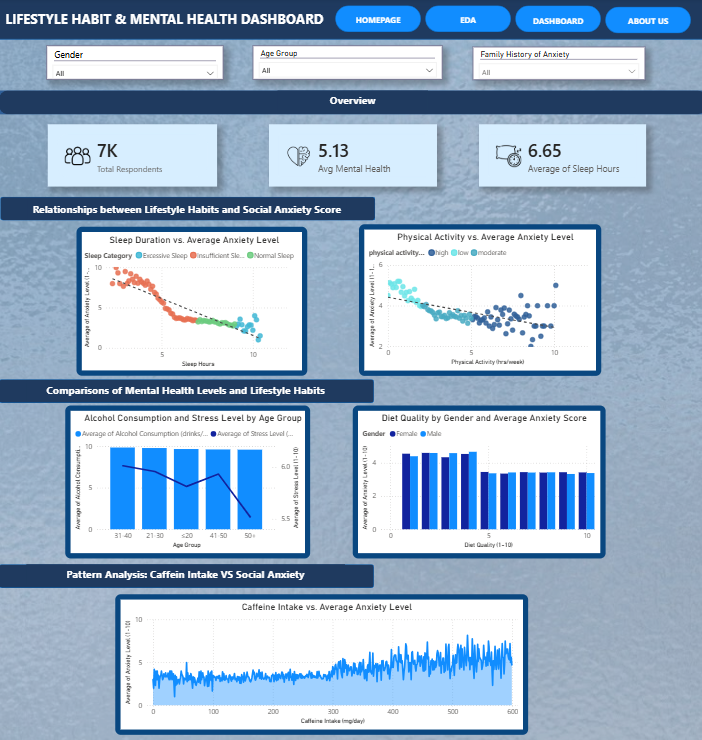

What the dashboard file says about the page in this screenshot:
{"tool":"powerbi","page":{"name":"dashb","canvas":[1280,1350],"ordinal":2},"visuals":[{"type":"image","box":[0,0,1280,1350],"z":0},{"type":"shape","title":"DASHBOARD","box":[933.6,13.3,155,48.3],"z":0,"group":"g1"},{"type":"group","id":"g1","title":"Group 5","box":[933.6,13.3,155,48.3],"z":0,"group":"g9"},{"type":"shape","box":[0,689,678.6,42.9],"z":0,"group":"g12"},{"type":"group","id":"g2","title":"Group 6","box":[771.5,13.3,155,48.3],"z":1000,"group":"g9"},{"type":"shape","title":"DASHBOARD","box":[771.5,13.3,155,48],"z":1000,"group":"g2"},{"type":"shape","title":"P","box":[0,167.1,1280,42.9],"z":1000},{"type":"textbox","box":[50,691.9,575.7,35.7],"z":1000,"group":"g12"},{"type":"shape","box":[0,0,1280,75],"z":2000},{"type":"group","id":"g3","title":"Group 7","box":[608.3,13.3,155,48.3],"z":2000,"group":"g9"},{"type":"shape","title":"DASHBOARD","box":[608.3,13.3,155,48],"z":3000,"group":"g3"},{"type":"group","id":"g4","title":"Group 8","box":[1096.9,15,155,48],"z":3000,"group":"g9"},{"type":"textbox","box":[0,16.7,1223.3,51.7],"z":3000},{"type":"textbox","box":[956.5,26.8,110,30],"z":3000,"group":"g1"},{"type":"textbox","box":[504.3,167.1,271.4,35.7],"z":4000},{"type":"shape","title":"DASHBOARD","box":[1096.9,15,155,48],"z":5000,"group":"g4"},{"type":"slicer","fields":{"Values":["anxietyTable.Gender"]},"box":[86.7,86.7,320,61.7],"z":5000},{"type":"cardVisual","title":"Total Respondents","fields":{"Data":["anxietyTable.Total Respondents"]},"box":[87.5,228.3,306.3,113.1],"z":5000,"group":"g11"},{"type":"slicer","fields":{"Values":["anxietyTable.Age Group"]},"box":[458.3,86.7,343.3,61.7],"z":6000},{"type":"cardVisual","fields":{"Data":["Avg(anxietyTable.Sleep Hours)"]},"box":[868.7,229.2,302.4,113.1],"z":6000,"group":"g11"},{"type":"textbox","box":[631.2,23.5,110,30],"z":7000,"group":"g3"},{"type":"slicer","fields":{"Values":["anxietyTable.Family History of Anxiety"]},"box":[858.3,88.3,311.7,60],"z":7000},{"type":"shape","box":[1.4,360,678.6,42.9],"z":8000,"group":"g10"},{"type":"stackedAreaChart","title":"Caffeine Intake vs. Average Anxiety Level","fields":{"Category":["anxietyTable.Caffeine Intake (mg/day)"],"Y":["Avg(anxietyTable.Anxiety Level (1-10))"]},"box":[210,1080,747.1,254.3],"z":8000},{"type":"textbox","box":[794.4,23.5,110,30],"z":9000,"group":"g2"},{"type":"textbox","box":[51.4,364.3,575.7,35.7],"z":9000,"group":"g10"},{"type":"group","id":"g5","title":"Group 1","box":[120,737.6,977.1,277.1],"z":9000},{"type":"group","id":"g6","title":"Group 2","box":[140,409.4,950,274.3],"z":10000},{"type":"textbox","box":[1119.8,25.2,110,30],"z":11000,"group":"g4"},{"type":"group","id":"g7","title":"Group 3","box":[0,689,678.6,42.9],"z":11000},{"type":"group","id":"g8","title":"Group 4","box":[0,1025.7,678.6,42.9],"z":12000},{"type":"group","id":"g9","title":"Group 9","box":[608.3,13.3,643.3,50],"z":13000},{"type":"group","id":"g10","title":"Group 11","box":[1.4,360,678.6,42.9],"z":14000},{"type":"group","id":"g11","title":"Group 1","box":[87.5,228.3,1083.7,114],"z":15000},{"type":"group","id":"g12","title":"Group 12","box":[0,689,678.6,42.9],"z":15001,"group":"g7"},{"type":"cardVisual","fields":{"Data":["anxietyTable.Avg Mental Health"]},"box":[486.8,229.2,304.4,113.1],"z":18000,"group":"g11"},{"type":"shape","box":[0,1025.7,678.6,42.9],"z":23000,"group":"g8"},{"type":"scatterChart","title":"Sleep Duration vs. Average Anxiety Level","fields":{"Series":["anxietyTable.Sleep Category"],"X":["anxietyTable.Sleep Hours"],"Y":["Avg(anxietyTable.Anxiety Level (1-10))"]},"box":[140,413.9,417.7,269.4],"z":24000,"group":"g6"},{"type":"textbox","box":[50,1025.7,575.7,35.7],"z":24000,"group":"g8"},{"type":"clusteredColumnChart","title":"Diet Quality by Gender and Average Anxiety Score","fields":{"Category":["anxietyTable.Diet Quality (1-10)"],"Series":["anxietyTable.Gender"],"Y":["Avg(anxietyTable.Anxiety Level (1-10))"]},"box":[639.8,737.6,457.3,277.1],"z":25000,"group":"g5"},{"type":"scatterChart","title":"Physical Activity vs. Average Anxiety Level","fields":{"Series":["anxietyTable.physical activity category"],"X":["anxietyTable.Physical Activity (hrs/week)"],"Y":["Avg(anxietyTable.Anxiety Level (1-10))"]},"box":[651.3,409.4,438.7,274.3],"z":26000,"group":"g6"},{"type":"lineStackedColumnComboChart","title":"Alcohol Consumption and Stress Level by Age Group","fields":{"Category":["anxietyTable.Age Group"],"Y":["Avg(anxietyTable.Alcohol Consumption (drinks/week))"],"Y2":["Avg(anxietyTable.Stress Level (1-10))"]},"box":[120,737.6,443.1,277.1],"z":28000,"group":"g5"}]}

Visuals, with their boxes in screenshot pixels (x1, y1, x2, y2), scaled from the page's 1280x1350 canvas onto the 702x740 screenshot:
image: <bbox>0, 0, 701, 739</bbox>
"DASHBOARD" shape: <bbox>512, 7, 597, 34</bbox>
"Group 5" group: <bbox>512, 7, 597, 34</bbox>
shape: <bbox>0, 378, 372, 401</bbox>
"Group 6" group: <bbox>423, 7, 508, 34</bbox>
"DASHBOARD" shape: <bbox>423, 7, 508, 34</bbox>
"P" shape: <bbox>0, 92, 701, 115</bbox>
textbox: <bbox>27, 379, 343, 399</bbox>
shape: <bbox>0, 0, 701, 41</bbox>
"Group 7" group: <bbox>334, 7, 419, 34</bbox>
"DASHBOARD" shape: <bbox>334, 7, 419, 34</bbox>
"Group 8" group: <bbox>602, 8, 687, 35</bbox>
textbox: <bbox>0, 9, 671, 37</bbox>
textbox: <bbox>525, 15, 585, 31</bbox>
textbox: <bbox>277, 92, 425, 111</bbox>
"DASHBOARD" shape: <bbox>602, 8, 687, 35</bbox>
slicer - anxietyTable.Gender: <bbox>48, 48, 223, 81</bbox>
"Total Respondents" cardVisual: <bbox>48, 125, 216, 187</bbox>
slicer - anxietyTable.Age Group: <bbox>251, 48, 440, 81</bbox>
cardVisual - Avg(anxietyTable.Sleep Hours): <bbox>476, 126, 642, 188</bbox>
textbox: <bbox>346, 13, 407, 29</bbox>
slicer - anxietyTable.Family History of Anxiety: <bbox>471, 48, 642, 81</bbox>
shape: <bbox>1, 197, 373, 221</bbox>
"Caffeine Intake vs. Average Anxiety Level" stackedAreaChart: <bbox>115, 592, 525, 731</bbox>
textbox: <bbox>436, 13, 496, 29</bbox>
textbox: <bbox>28, 200, 344, 219</bbox>
"Group 1" group: <bbox>66, 404, 602, 556</bbox>
"Group 2" group: <bbox>77, 224, 598, 375</bbox>
textbox: <bbox>614, 14, 674, 30</bbox>
"Group 3" group: <bbox>0, 378, 372, 401</bbox>
"Group 4" group: <bbox>0, 562, 372, 586</bbox>
"Group 9" group: <bbox>334, 7, 686, 35</bbox>
"Group 11" group: <bbox>1, 197, 373, 221</bbox>
"Group 1" group: <bbox>48, 125, 642, 188</bbox>
"Group 12" group: <bbox>0, 378, 372, 401</bbox>
cardVisual - anxietyTable.Avg Mental Health: <bbox>267, 126, 434, 188</bbox>
shape: <bbox>0, 562, 372, 586</bbox>
"Sleep Duration vs. Average Anxiety Level" scatterChart: <bbox>77, 227, 306, 375</bbox>
textbox: <bbox>27, 562, 343, 582</bbox>
"Diet Quality by Gender and Average Anxiety Score" clusteredColumnChart: <bbox>351, 404, 602, 556</bbox>
"Physical Activity vs. Average Anxiety Level" scatterChart: <bbox>357, 224, 598, 375</bbox>
"Alcohol Consumption and Stress Level by Age Group" lineStackedColumnComboChart: <bbox>66, 404, 309, 556</bbox>
